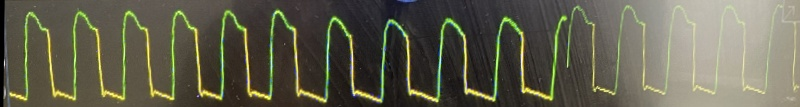normal_pressure: (0, 0, 787, 107)
